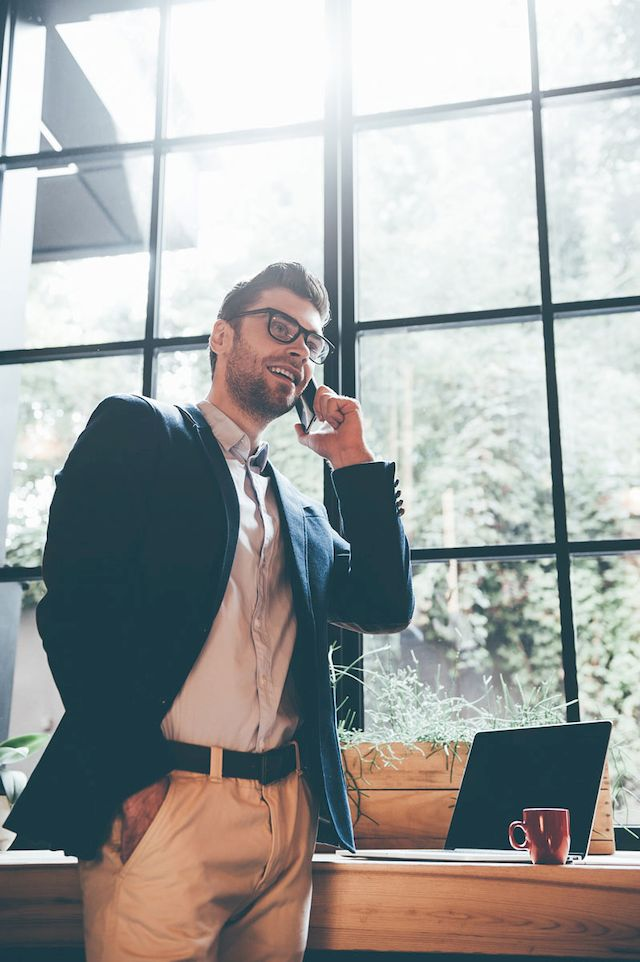phone: (290, 362, 327, 435)
talk: (249, 303, 362, 458)
